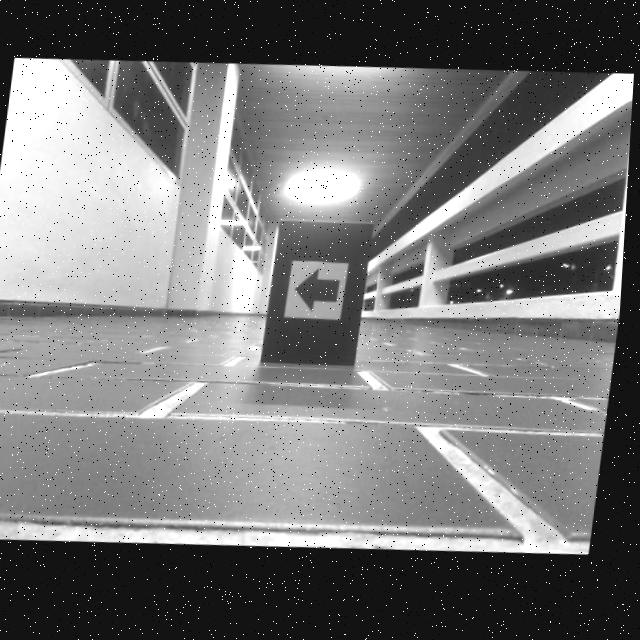LEFT: (298, 270, 344, 316)
